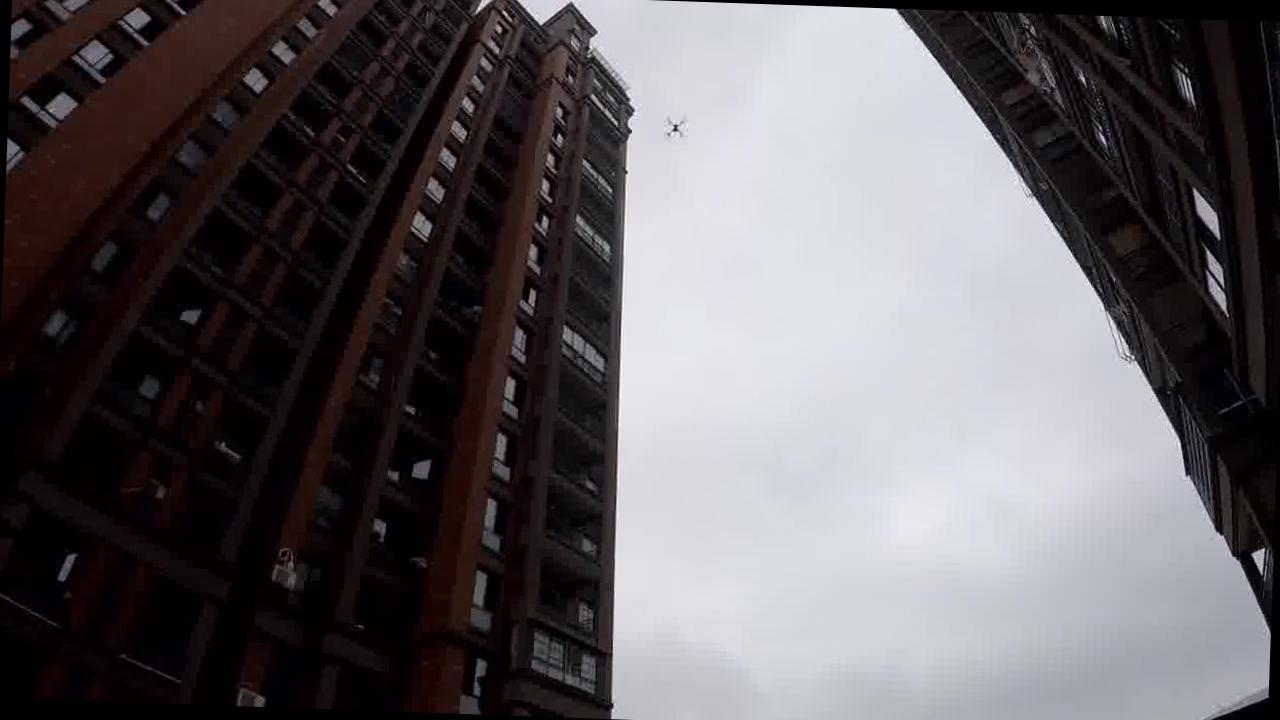drone: (652, 102, 710, 151)
